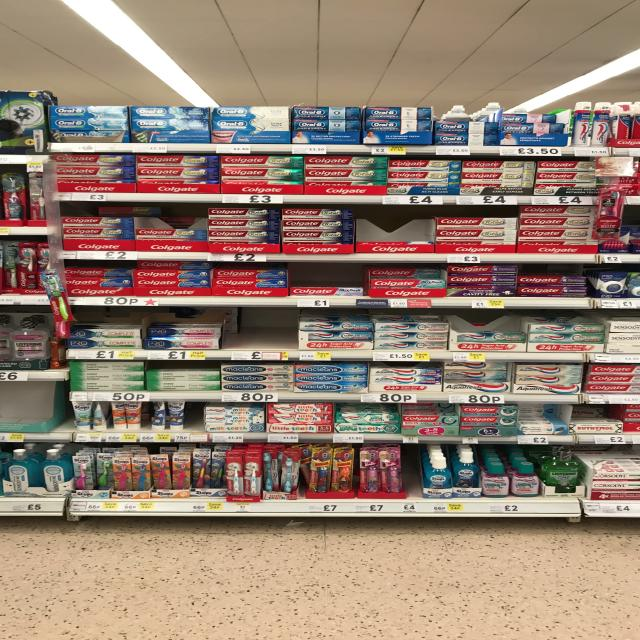unorganised: (293, 445, 356, 495), (443, 364, 511, 389), (503, 111, 571, 134), (147, 399, 186, 433), (193, 453, 225, 492), (369, 265, 449, 280), (60, 268, 135, 281), (135, 261, 207, 271), (93, 456, 113, 491), (91, 403, 110, 431)
